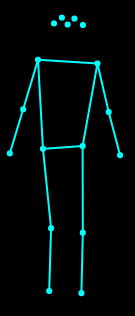mountain: (5, 9, 125, 299)
